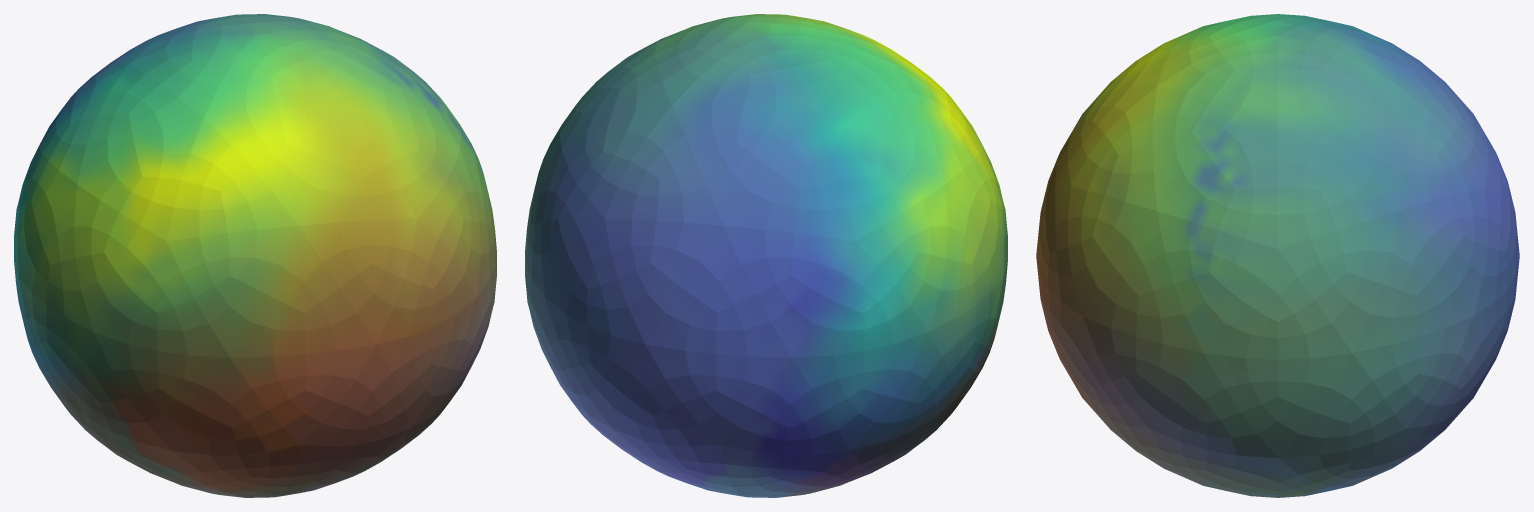
The model's file is Snake Piece.fbx.
3 renders of one model, left to right at view 1: azimuth 30°, elevation 25°; view 2: azimuth 150°, elevation 25°; view 3: azimuth 270°, elevation 25°, orthographic.
Visible parts, largest first — view 1: Icosphere; view 2: Icosphere; view 3: Icosphere.
Boxes of the visible parts, box(x1,y1,x2,y2) form: Icosphere: box(14, 14, 496, 497); Icosphere: box(525, 14, 1007, 497); Icosphere: box(1036, 14, 1519, 497).
Size of the model in its own units: 185 by 186 by 185.
